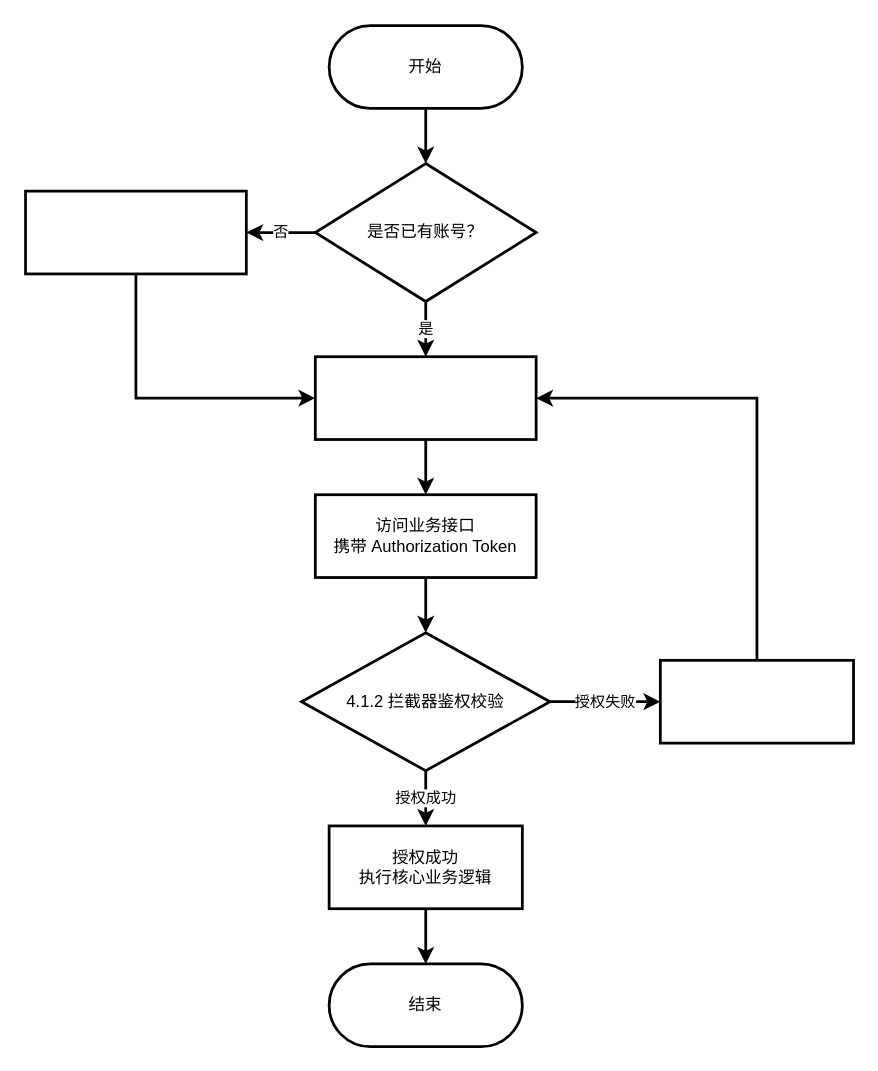
Some shapes in this 878 by 1071 pixel diagram are drawn without their labels. The shapes that lost their labels are listed below. From the top down, each one's centre as x and y in pixels, then its label:
[135,232]: 4.1.1 用户注册实现 (SHA-256 哈希加密)
[425,397]: 4.1.1 登录身份验证 (哈希比对并签发Token)
[756,701]: 返回 401 错误 重定向至登录页
